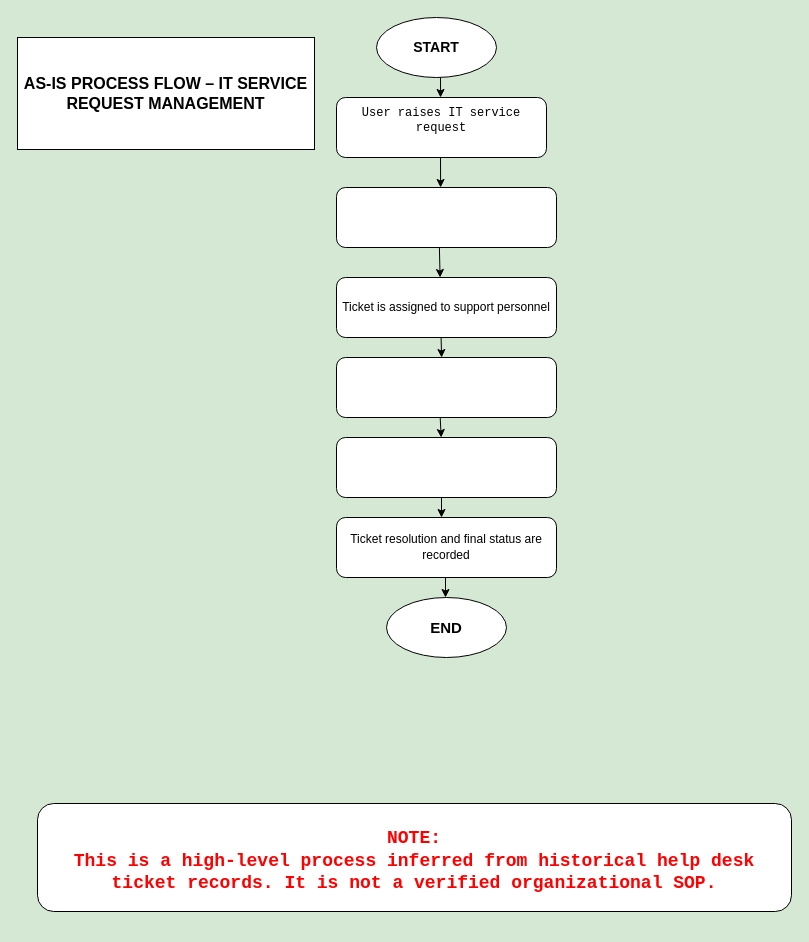
This 809x942 diagram has some shape labels left out. The shapes that lost their labels are listed below. From the top down, each one's centre as x and y in pixels, then its label:
At (x=446, y=217): "Ticket is created and recorded".
At (x=446, y=387): "Support team reviews the ticket".
At (x=446, y=467): "Ticket moves through workflow stages".
